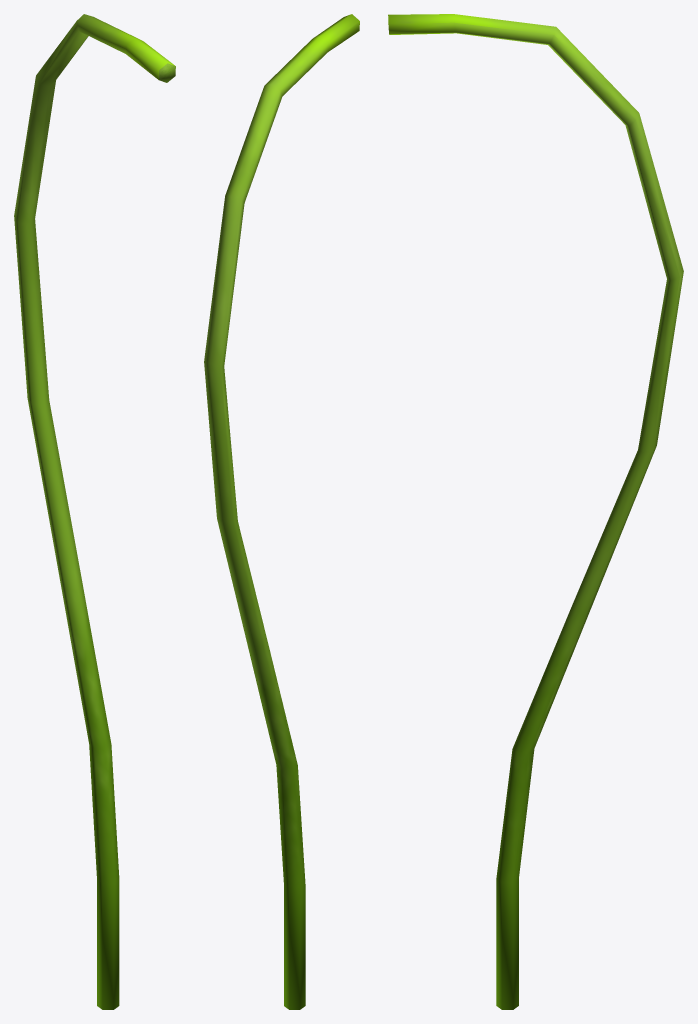
The model's file is stem03.fbx.
3 views of the same model, side by side, from view 1: azimuth 30°, elevation 25°; view 2: azimuth 150°, elevation 25°; view 3: azimuth 270°, elevation 25° (orthographic). The views are drawn at different scales.
Visible parts, largest first — view 1: stem03; view 2: stem03; view 3: stem03.
Boxes of the visible parts, x1,y1,x2,y2 form: stem03: (14,14,175,1009); stem03: (204,14,359,1009); stem03: (388,14,683,1009).
Bounding box in the file's own units: 17.32 × 973 × 263.
